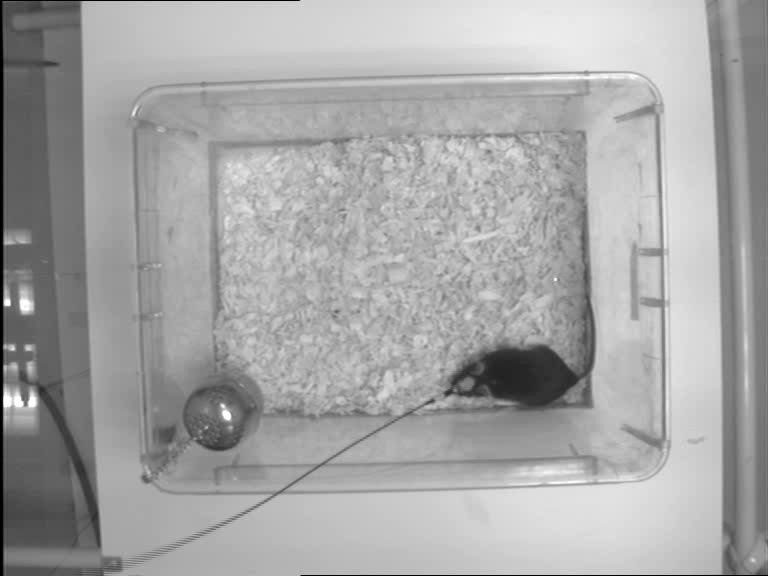mice: (448, 292, 597, 408)
